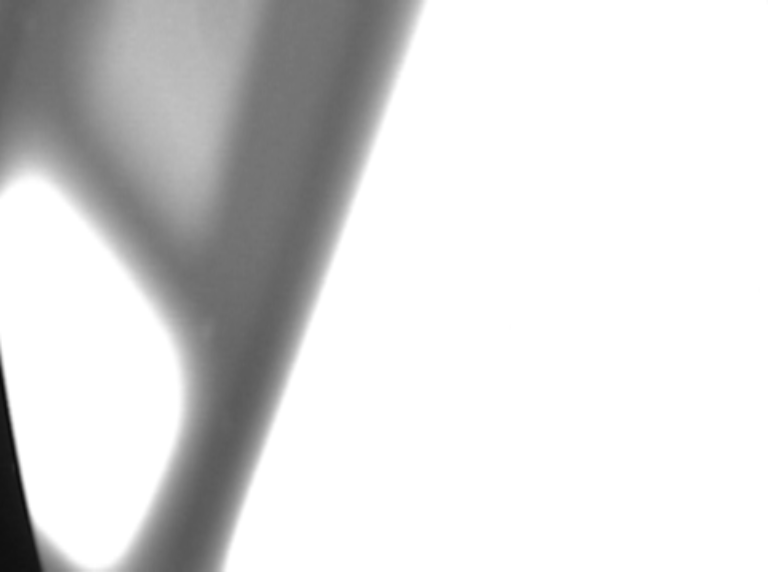defect: (225, 408, 243, 445)
